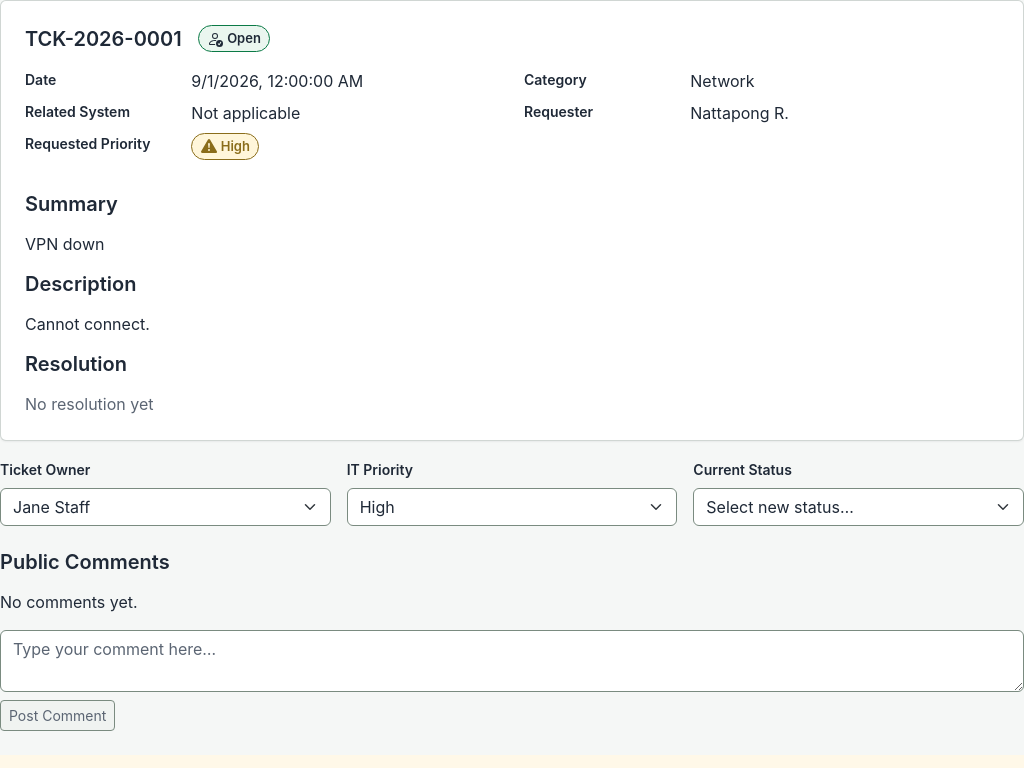
Test: StaffTicketDetailPage › shows a visible error with Retry when changing the status fails (N2)
The image size is (1024, 768).
Select "In Progress" in the dropdown labelled "Current Status": (859, 507) [693,488,1023,526]
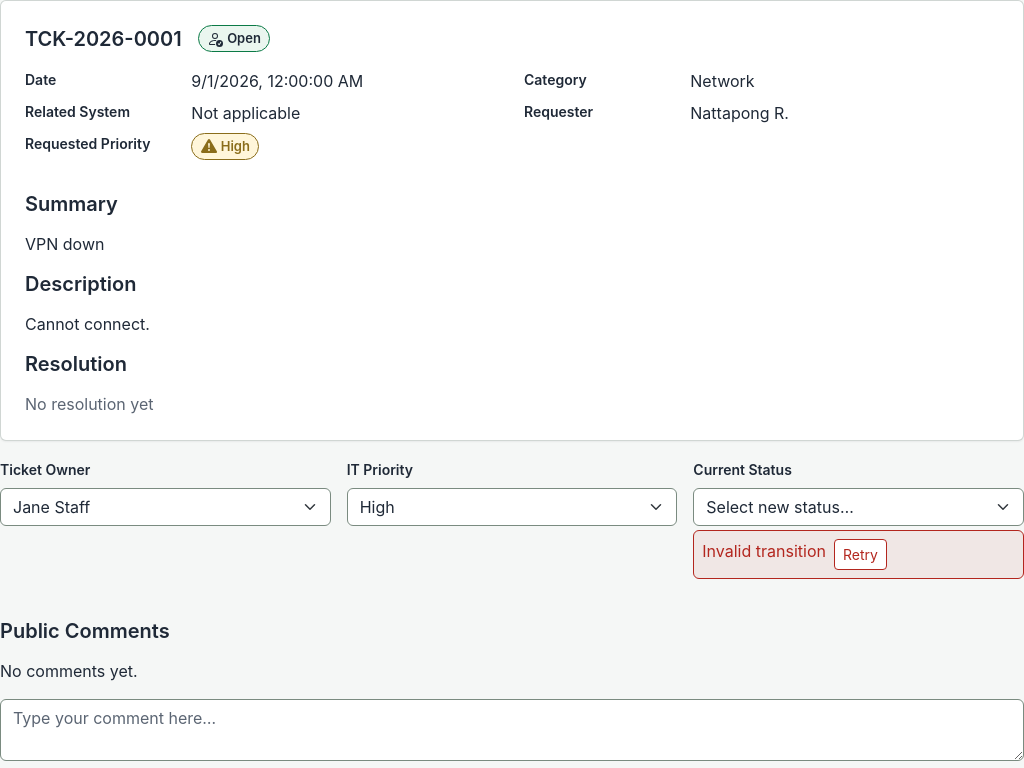
Expected: the text "Invalid transition" is shown, [702,539,826,563]
